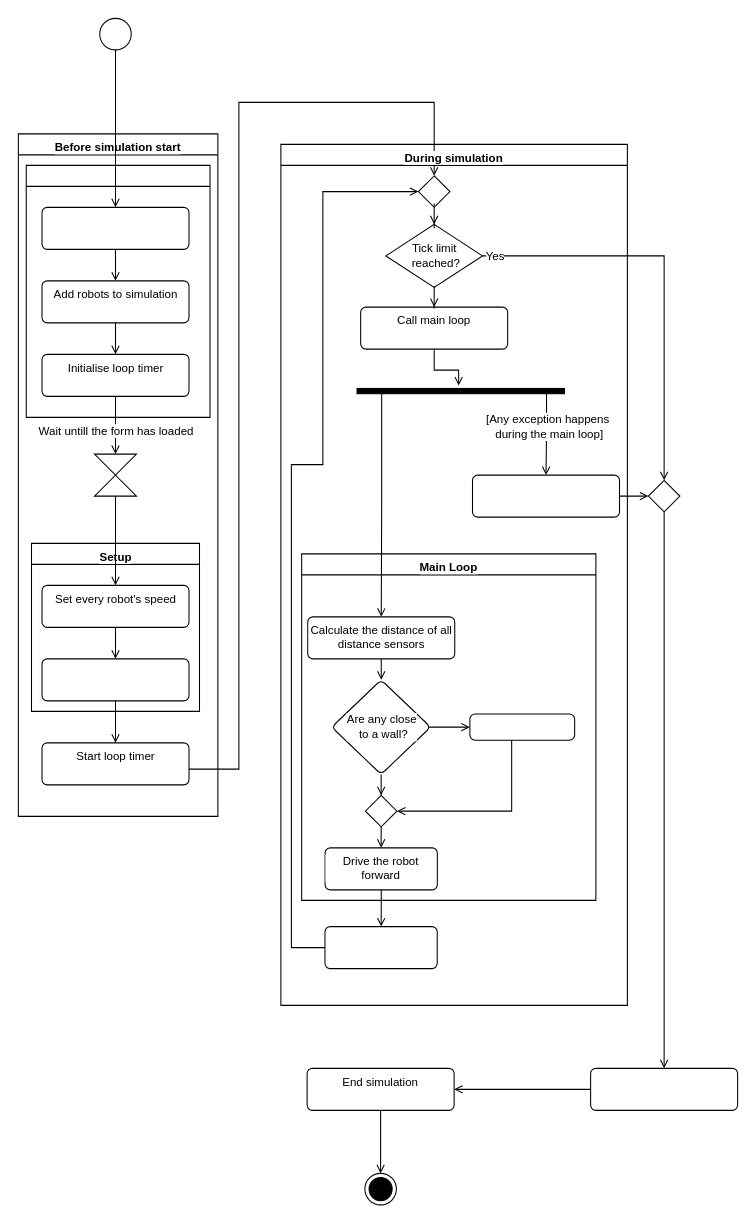
The diagram is 756 pixels wide and 1223 high, and some of its shapes have lost their labels. The box of each missing label's shape, as (x1, y1, x2, y2) in pixels:
Give every robot a random rotation: (41, 658, 189, 701)
Initialise values: (25, 164, 210, 417)
Redraw the robots and sensor lines: (324, 926, 437, 969)
Rotate the robot: (469, 713, 575, 740)
Set room boundaries: (41, 206, 189, 249)
Show exception on screen: (471, 474, 620, 517)
Stop the loop: (590, 1067, 738, 1110)
